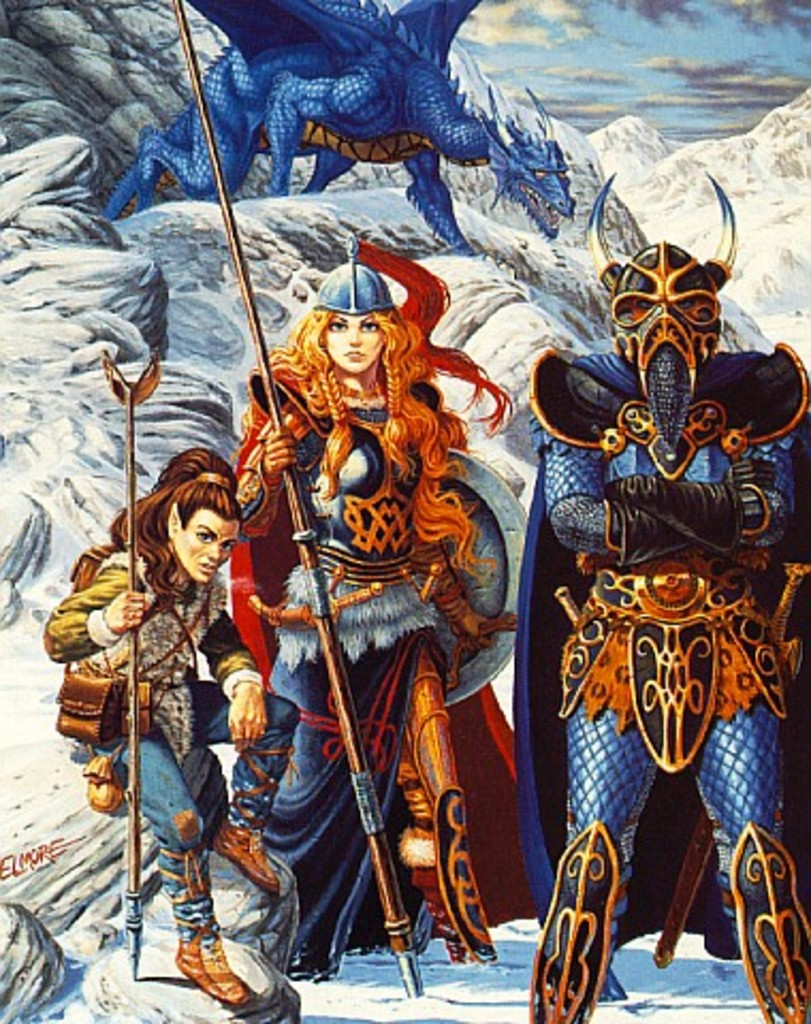Person: (512, 170, 811, 1023), (230, 234, 539, 985), (43, 446, 301, 1004)
